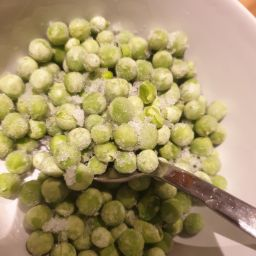Peas: (6, 17, 173, 256), (77, 80, 154, 167), (29, 16, 119, 82), (2, 53, 67, 144), (6, 152, 81, 227), (90, 184, 162, 250), (133, 27, 190, 92), (172, 100, 233, 160)
